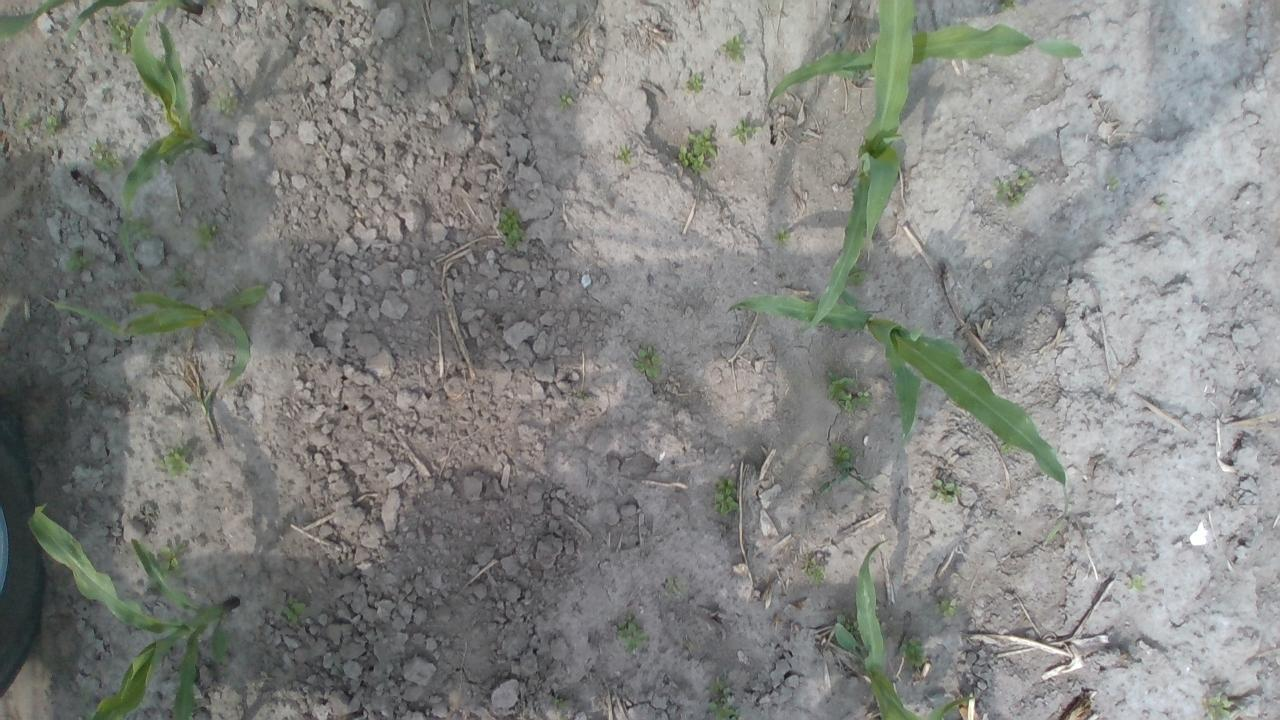Maize: (724, 281, 1071, 551), (26, 503, 242, 720), (800, 0, 916, 332), (762, 22, 1085, 124), (118, 0, 220, 285), (832, 537, 976, 720), (39, 284, 269, 388), (0, 0, 205, 51)
Weeds: (818, 442, 878, 496), (825, 372, 872, 417), (677, 126, 718, 172), (992, 169, 1036, 209), (196, 383, 223, 443), (106, 6, 138, 54), (706, 680, 743, 720), (616, 610, 649, 654), (153, 444, 191, 477), (496, 206, 524, 250), (92, 140, 125, 175), (276, 592, 308, 624), (712, 479, 739, 515), (898, 635, 928, 667), (156, 542, 186, 574), (632, 345, 661, 378), (1200, 692, 1232, 720), (929, 478, 962, 505), (730, 119, 761, 146), (801, 555, 824, 587), (720, 34, 746, 62), (214, 91, 238, 117), (68, 246, 92, 272), (846, 262, 868, 289), (196, 222, 217, 247), (129, 219, 154, 240), (170, 268, 193, 290), (934, 597, 956, 619), (1126, 572, 1148, 593), (616, 144, 636, 165), (685, 73, 705, 94), (836, 614, 860, 631), (44, 114, 59, 136), (554, 91, 574, 107), (666, 578, 682, 596), (999, 0, 1019, 13), (1156, 193, 1168, 214), (1108, 172, 1120, 192), (999, 441, 1016, 455), (776, 228, 790, 244), (18, 118, 32, 132), (554, 699, 567, 711), (576, 391, 586, 401)
